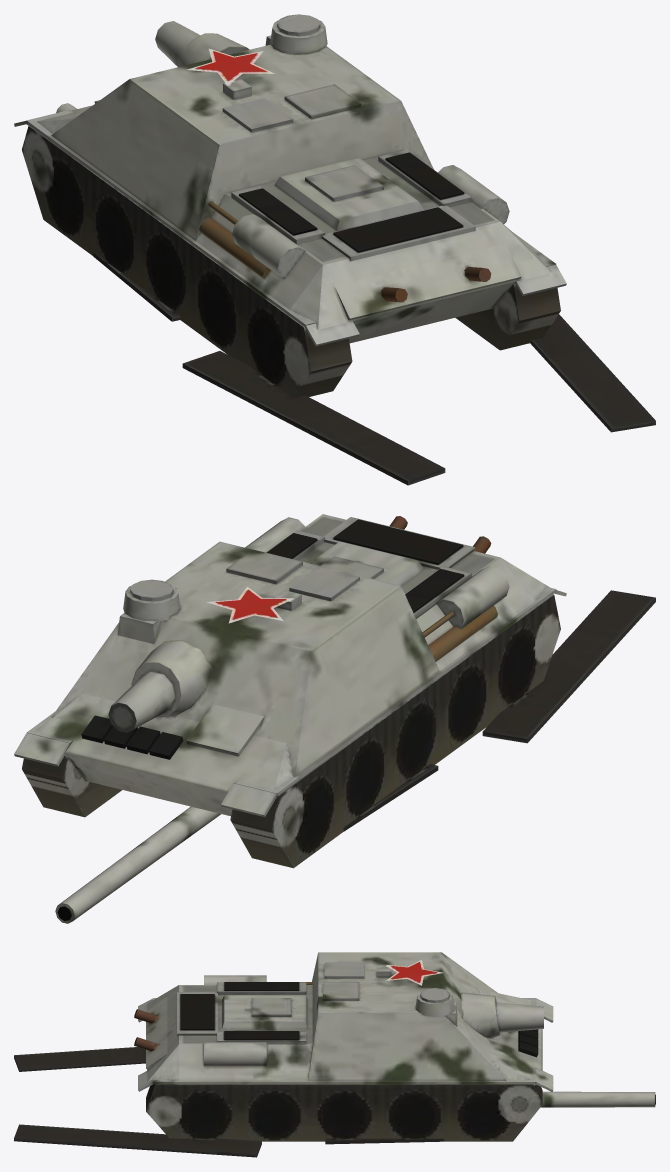
Rendered from su100_winter.glb.
3 views of the same model, one above another, from view 1: azimuth 30°, elevation 25°; view 2: azimuth 150°, elevation 25°; view 3: azimuth 270°, elevation 25° (orthographic). The views are drawn at different scales.
Parts seen in each view (by area): view 1: hull_ok, hull_trackL, hull_trackR; view 2: hull_ok, hull_trackL, gun_ok; view 3: hull_ok, hull_trackR, hull_trackL, gun_ok.
Boxes of the visible parts, x1,y1,x2,y2 form: hull_ok: (14,14,566,398); hull_trackL: (93,252,445,485); hull_trackR: (530,314,655,432); hull_ok: (14,514,566,868); hull_trackL: (343,590,655,831); gun_ok: (55,806,220,923); hull_ok: (134,952,553,1141); hull_trackR: (14,1124,444,1157); hull_trackL: (14,1047,145,1071); gun_ok: (540,1091,655,1107).
Size of the model in its own units: 4.14 by 2.58 by 9.71.
Materials: 12 (12 with a texture image).
